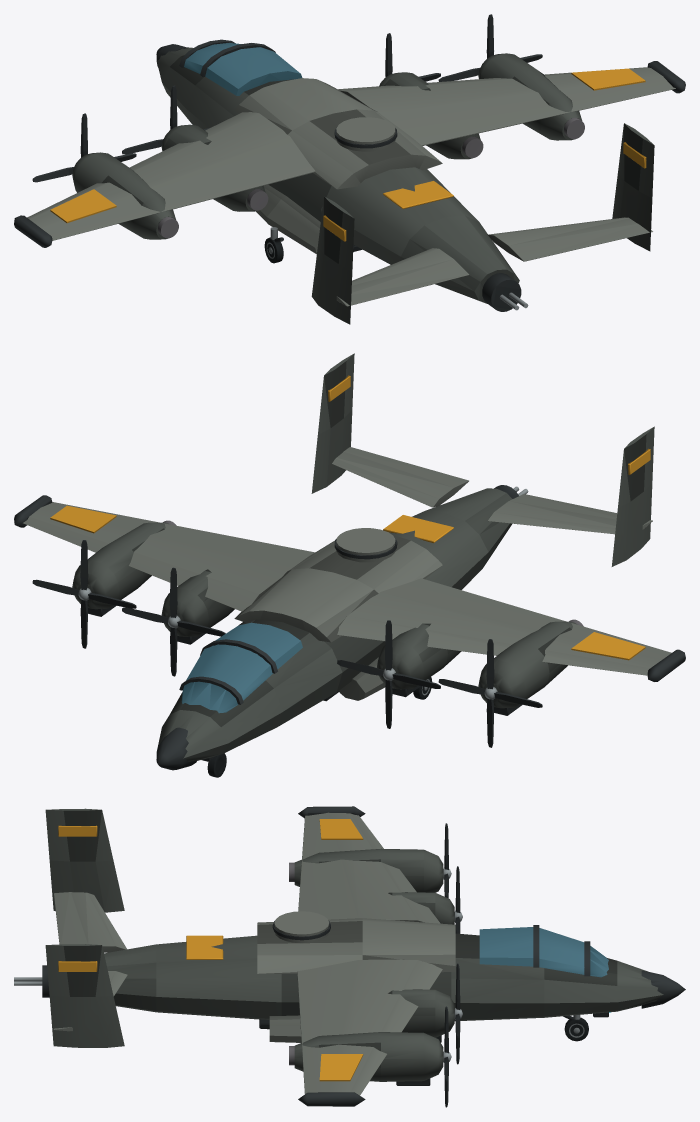
File: Bomber.glb
3 views of the same model, one above another, from view 1: azimuth 30°, elevation 25°; view 2: azimuth 150°, elevation 25°; view 3: azimuth 270°, elevation 25° (orthographic). The views are drawn at different scales.
Visible parts, largest first — view 1: export_bastion_Bomber_Fuselage, export_bastion_Bomber_Fan_RotorB_Spinner, export_bastion_Bomber_Fan_RotorD_Spinner, export_bastion_Bomber_Fan_RotorA_Spinner; view 2: export_bastion_Bomber_Fuselage, export_bastion_Bomber_Fan_RotorA_Spinner, export_bastion_Bomber_Fan_RotorC_Spinner, export_bastion_Bomber_Fan_RotorD_Spinner, export_bastion_Bomber_Fan_RotorB_Spinner; view 3: export_bastion_Bomber_Fuselage, export_bastion_Bomber_Fan_RotorC_Spinner, export_bastion_Bomber_Fan_RotorD_Spinner.
Part boxes in pixels (bbox=[...]): export_bastion_Bomber_Fuselage: bbox=[14, 39, 685, 324]; export_bastion_Bomber_Fan_RotorB_Spinner: bbox=[32, 113, 136, 182]; export_bastion_Bomber_Fan_RotorD_Spinner: bbox=[438, 14, 542, 81]; export_bastion_Bomber_Fan_RotorA_Spinner: bbox=[122, 85, 210, 154]; export_bastion_Bomber_Fuselage: bbox=[14, 353, 685, 777]; export_bastion_Bomber_Fan_RotorA_Spinner: bbox=[337, 620, 440, 728]; export_bastion_Bomber_Fan_RotorC_Spinner: bbox=[122, 567, 225, 676]; export_bastion_Bomber_Fan_RotorD_Spinner: bbox=[32, 540, 136, 648]; export_bastion_Bomber_Fan_RotorB_Spinner: bbox=[438, 639, 542, 747]; export_bastion_Bomber_Fuselage: bbox=[14, 806, 685, 1106]; export_bastion_Bomber_Fan_RotorC_Spinner: bbox=[454, 963, 462, 1064]; export_bastion_Bomber_Fan_RotorD_Spinner: bbox=[443, 1006, 451, 1107].
Size of the model in its own units: 8.54 by 2.22 by 8.31.
